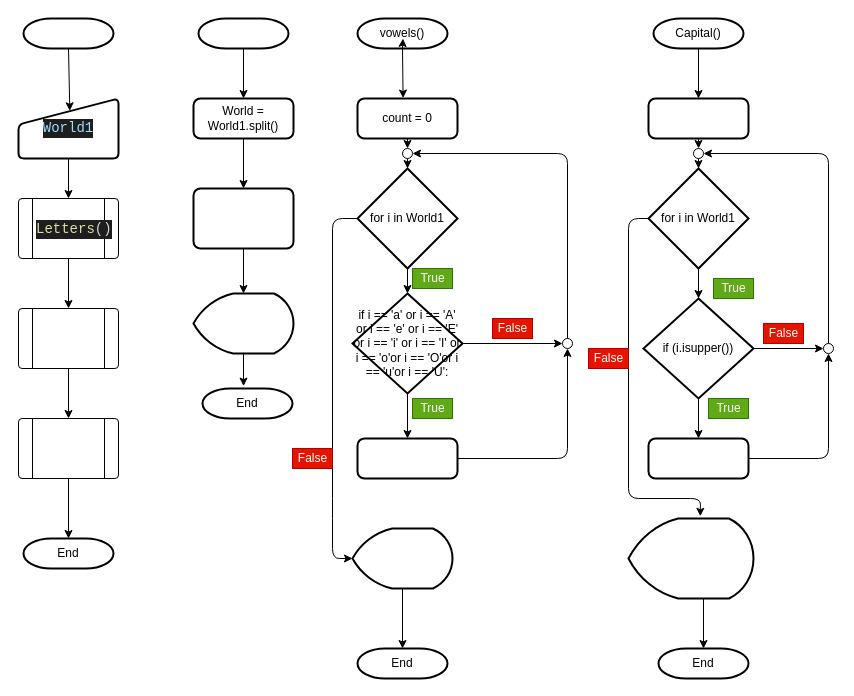
Some shapes in this 854 by 696 pixel diagram are drawn without their labels. The shapes that lost their labels are listed below. From the top down, each one's box as (x1, y1, x2, y2) in pixels, then its label:
(22, 17, 114, 49): Start
(197, 17, 289, 49): Letters
(647, 97, 749, 139): count = 0 list = []
(192, 187, 294, 249): total = (len(World1)) - (len(World2)) +1
(18, 308, 118, 368): vowels ()
(192, 292, 294, 354): 'Number of Letters:',total
(18, 418, 118, 478): Capital ()
(356, 437, 458, 479): count += 1
(647, 437, 749, 479): count +=1 list.append(i)
(351, 527, 453, 589): 'Number of vowels:',count
(627, 517, 754, 599): 'Number of Capital:',str(count)+',','[%s]' % ', '.join(map(str,list))
